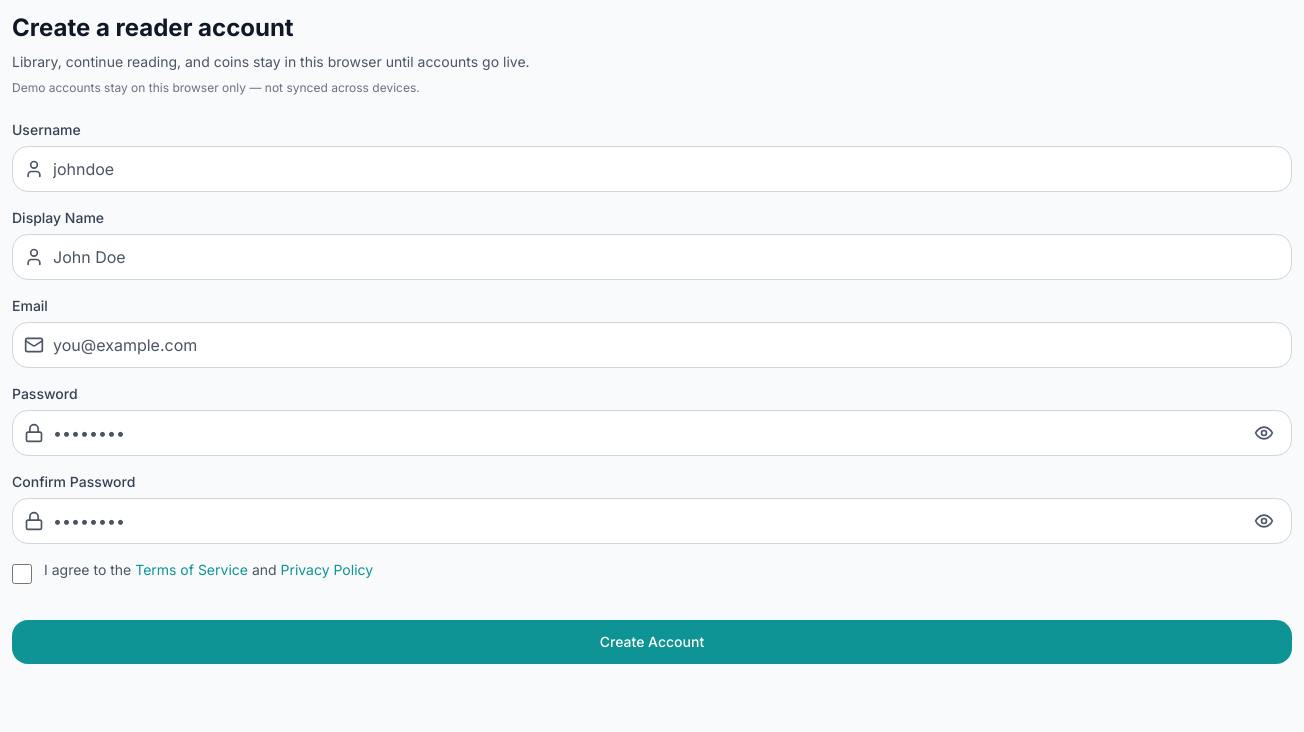
Test: RegisterPage › blocks submit until terms are accepted
Type "newreader" into the field labelled "Username" at (652,169), box [12,146,1292,192]
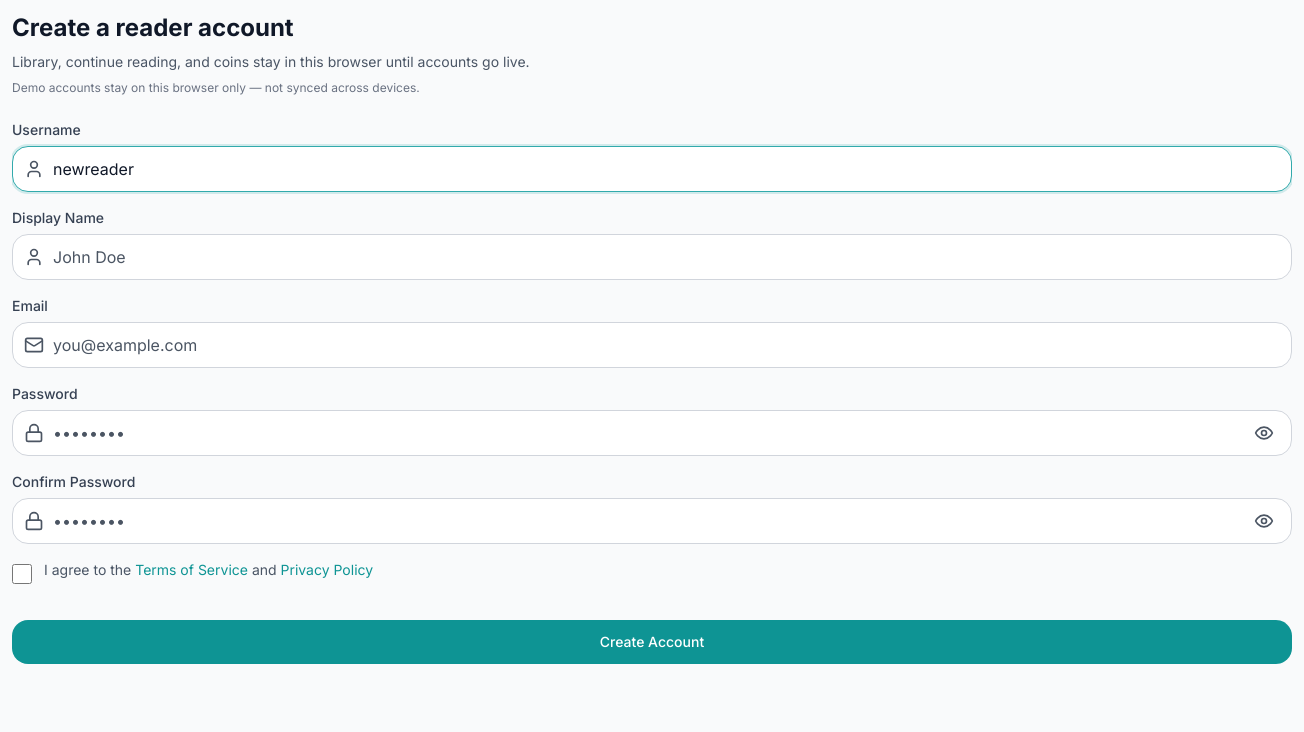
Type "New Reader" into the field labelled "Display Name" at (652,257), box [12,234,1292,280]
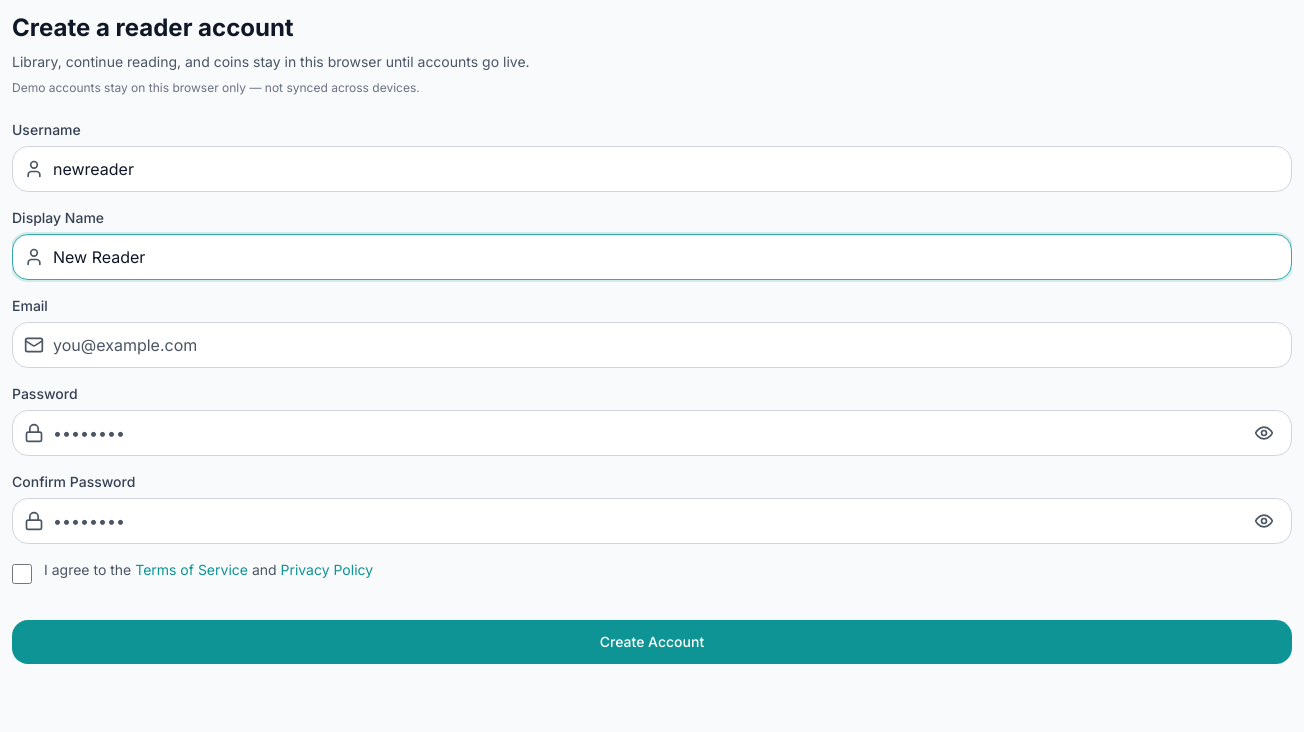
Type "new@softgate.test" into the field labelled "Email" at (652,345), box [12,322,1292,368]
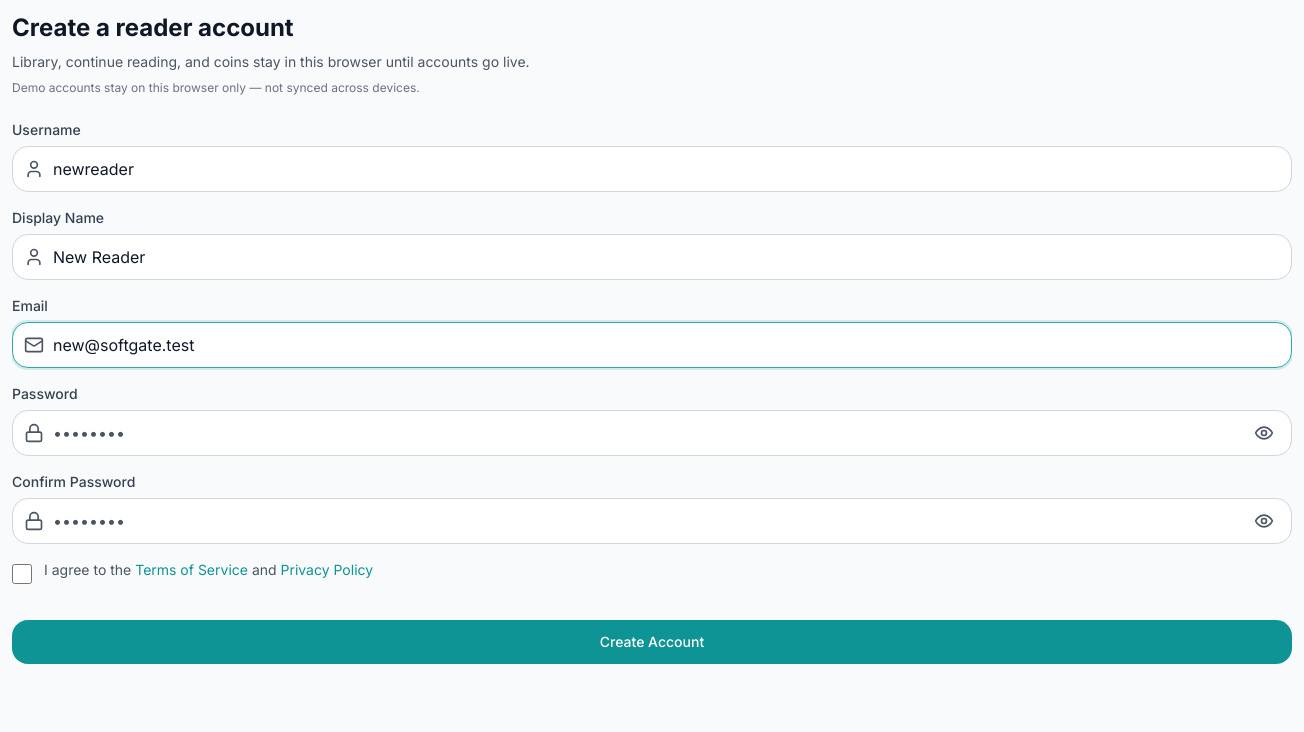
Type "secret12" into the password field labelled "Password" at (652,433), box [12,410,1292,456]
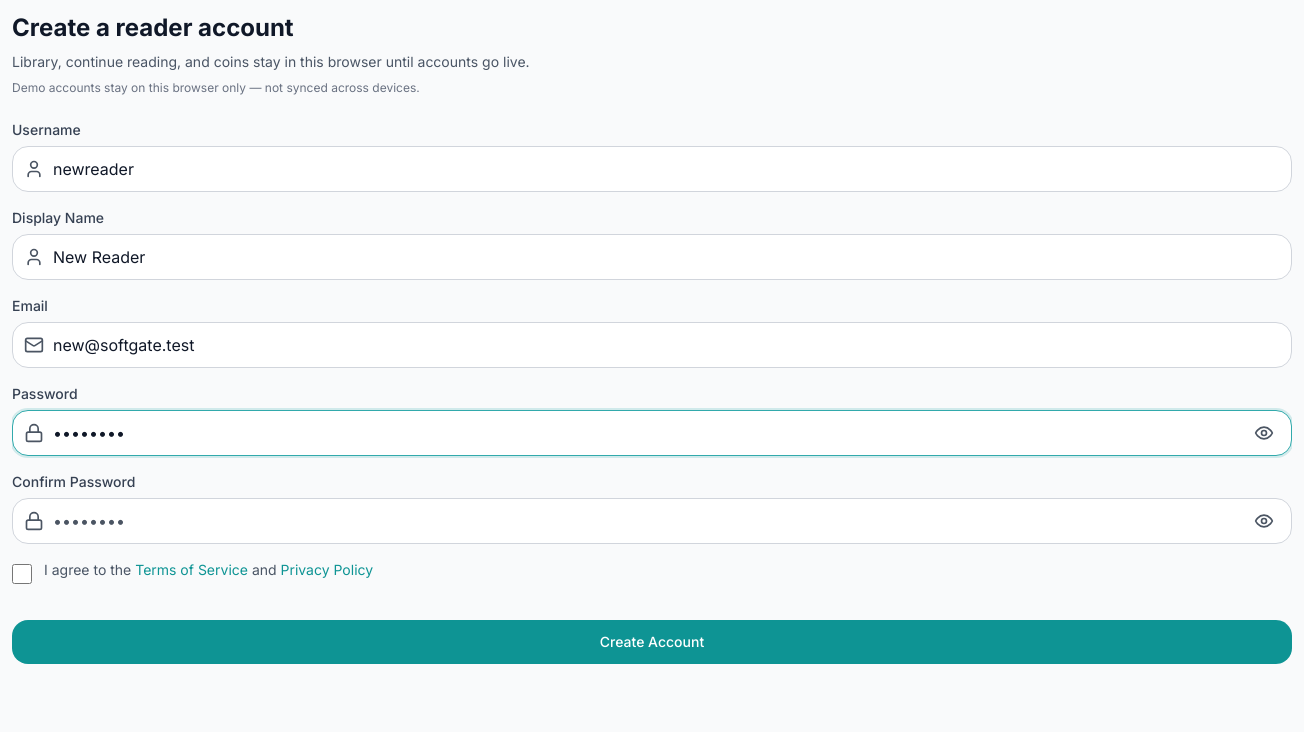
Type "secret12" into the password field labelled "Confirm Password" at (652,521), box [12,498,1292,544]
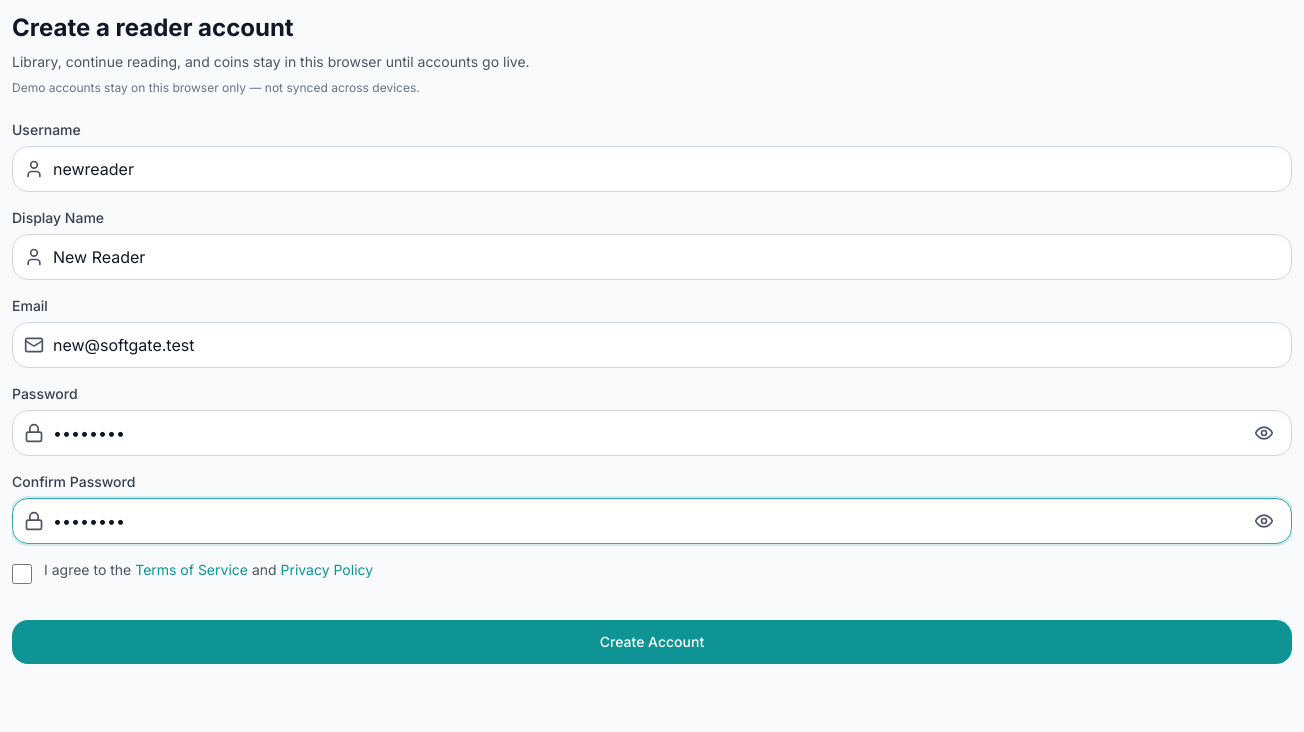
Click the button "Create Account" at (652,642), box [12,620,1292,664]
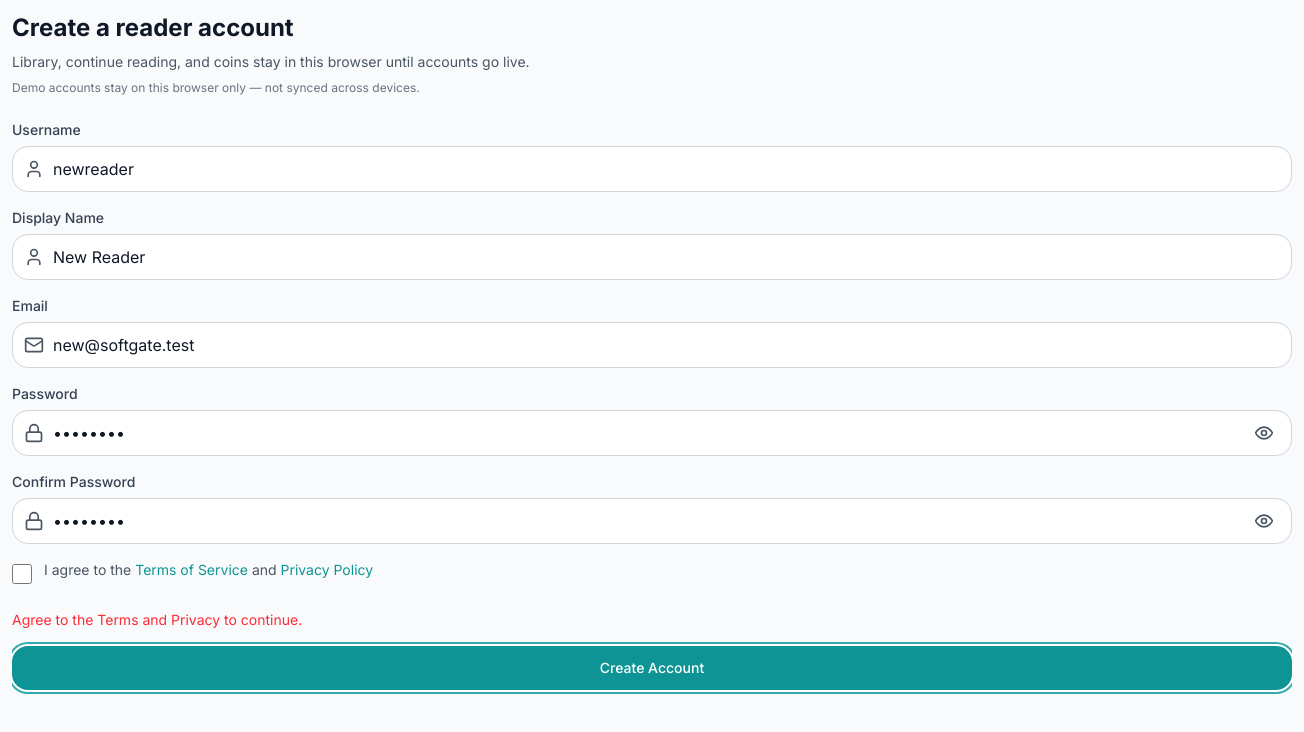
Now the text "Agree to the Terms and Privacy to continue." is shown, box [12,611,302,628]
